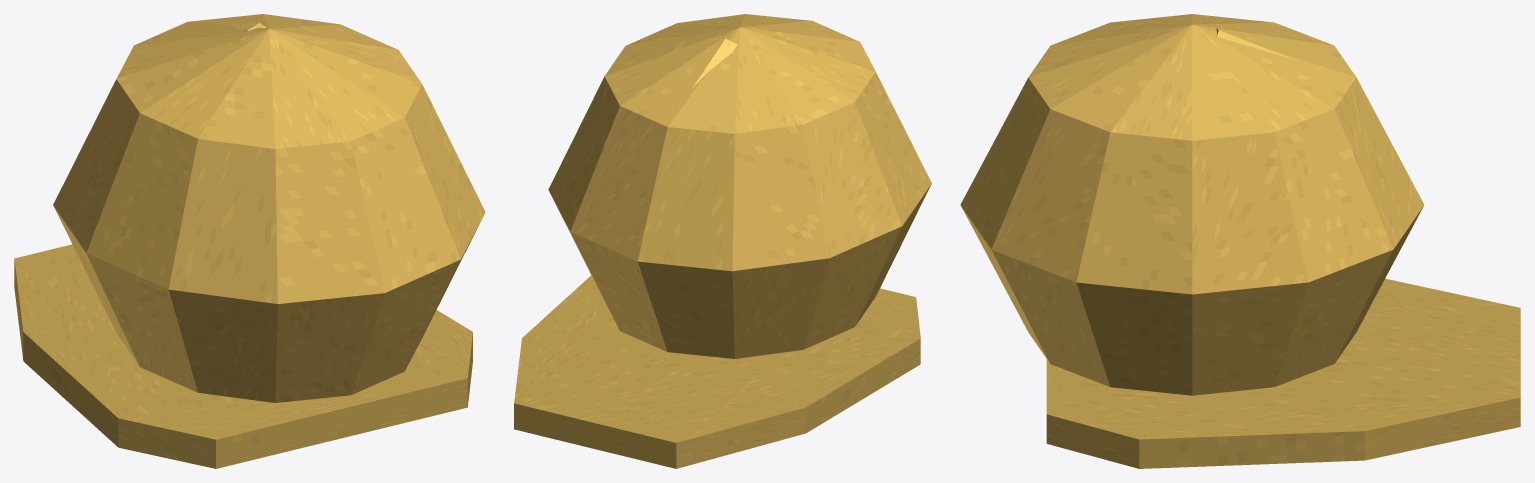
File: hat_hard.glb
3 renders of one model, left to right at view 1: azimuth 30°, elevation 25°; view 2: azimuth 150°, elevation 25°; view 3: azimuth 270°, elevation 25°, orthographic. The views are drawn at different scales.
Parts seen in each view (by area): view 1: block_molded helmet shell, block_lower rim; view 2: block_molded helmet shell, block_lower rim, block_crown ridge 1; view 3: block_molded helmet shell, block_lower rim.
Part boxes in pixels (x1=…): block_molded helmet shell: x1=53, y1=14, x2=485, y2=402; block_lower rim: x1=14, y1=244, x2=472, y2=468; block_molded helmet shell: x1=548, y1=14, x2=931, y2=358; block_lower rim: x1=514, y1=275, x2=920, y2=468; block_crown ridge 1: x1=692, y1=38, x2=737, y2=88; block_molded helmet shell: x1=960, y1=14, x2=1424, y2=395; block_lower rim: x1=1046, y1=278, x2=1520, y2=468.
Bounding box in the file's own units: 0.2121 × 0.1988 × 0.28.
Materials: 1 (1 with a texture image).
